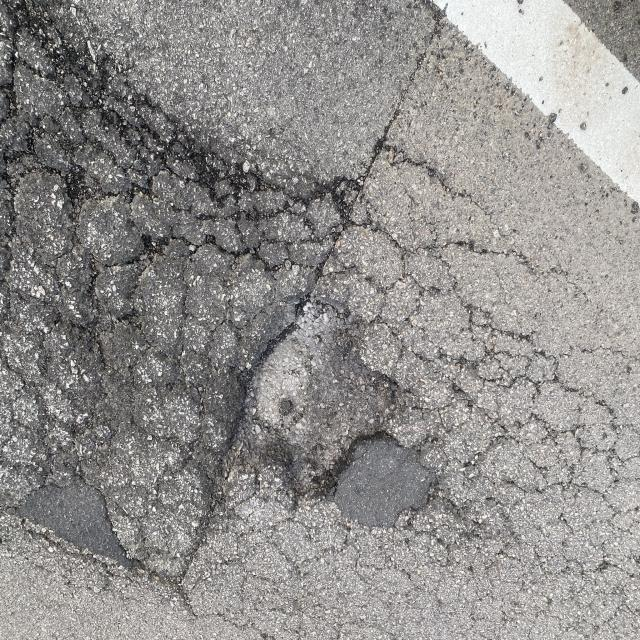Pothole: (129, 93, 435, 563)
